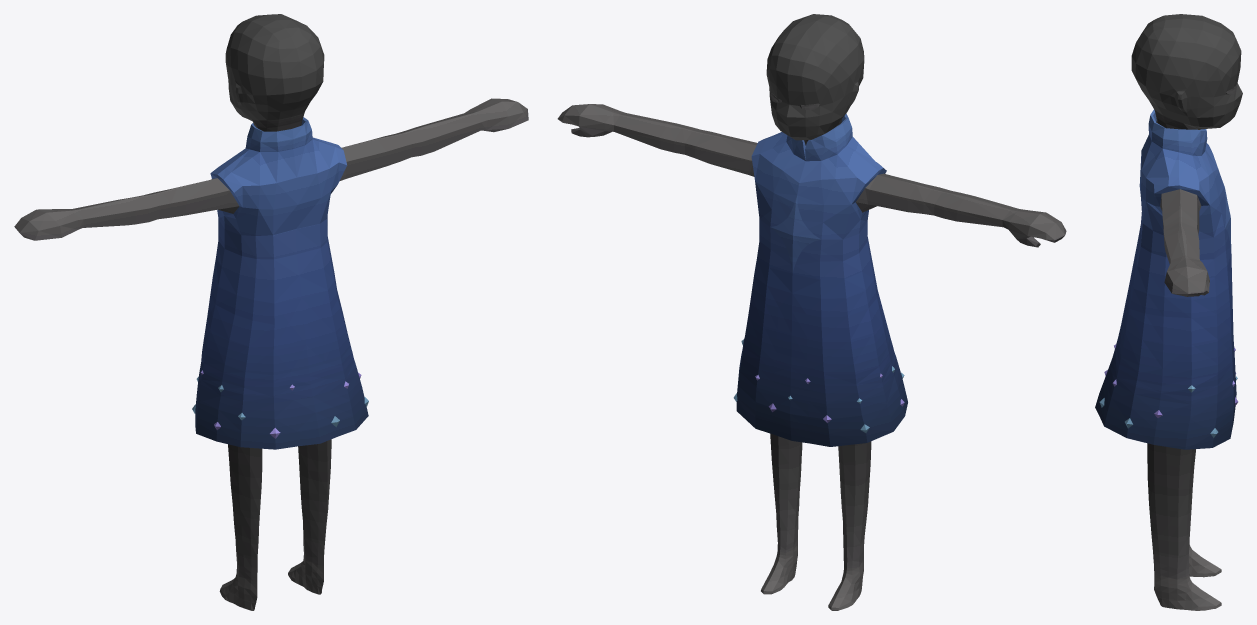
The model's file is CharSkyKid_Body_CrystalDress.glb.
3 renders of one model, left to right at view 1: azimuth 30°, elevation 25°; view 2: azimuth 150°, elevation 25°; view 3: azimuth 270°, elevation 25°, orthographic.
Visible parts, largest first — view 1: CharSkyKid_Body_CrystalDress; view 2: CharSkyKid_Body_CrystalDress; view 3: CharSkyKid_Body_CrystalDress.
Part boxes in pixels (box(x1,y1,x2,y2)): CharSkyKid_Body_CrystalDress: box(14, 14, 528, 610); CharSkyKid_Body_CrystalDress: box(557, 14, 1066, 610); CharSkyKid_Body_CrystalDress: box(1095, 14, 1242, 610).
Size of the model in its own units: 13.83 by 14.94 by 3.5.
1 material, 1 textured.
